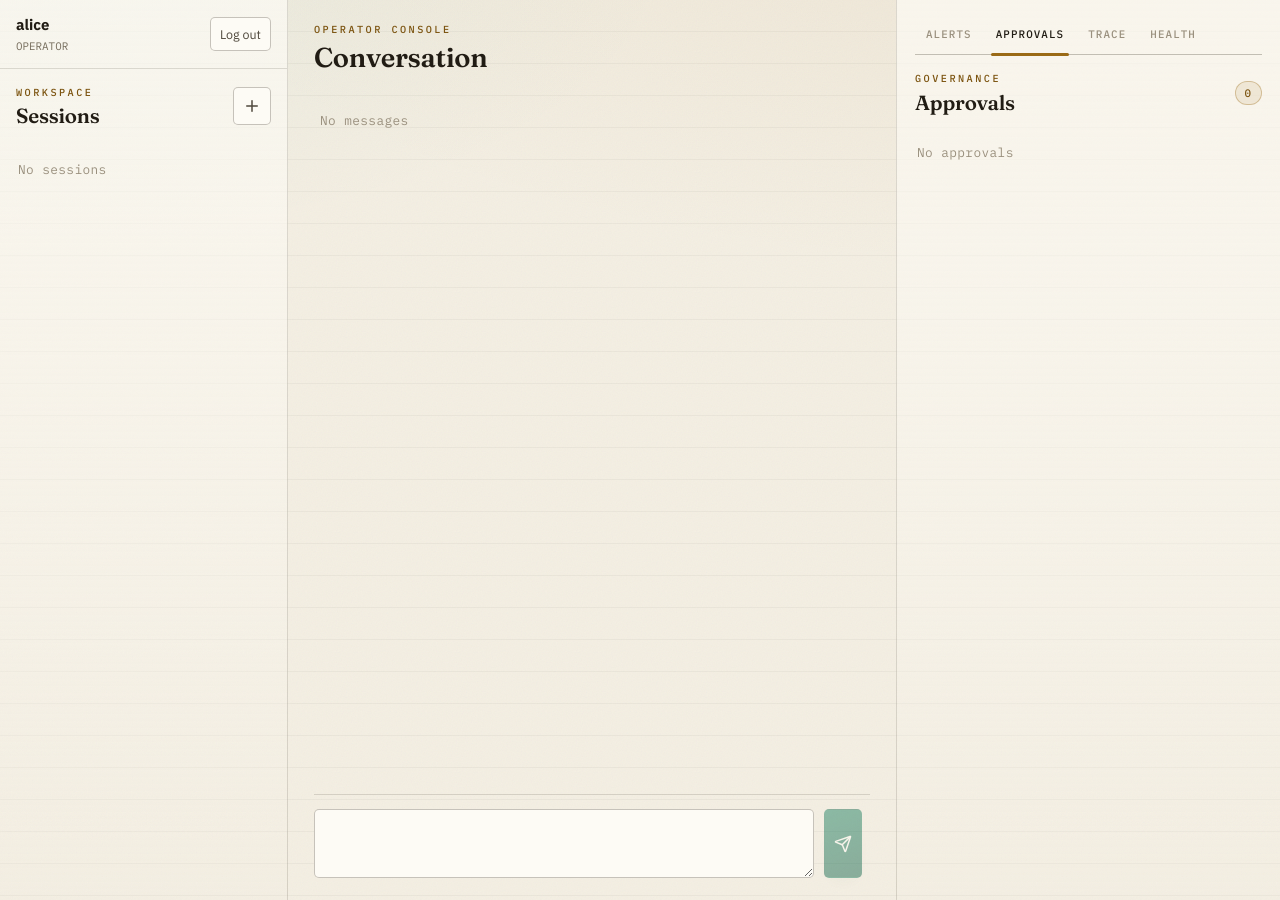
Test: App › renders the operator console panes on an empty backend state
Expected: the heading "Sessions" is shown, x1=16 y1=105 x2=100 y2=128
Expected: the heading "Conversation" is shown, x1=314 y1=42 x2=487 y2=73
Click the tab "Health".
click(1173, 35)  # box x1=1139 y1=18 x2=1207 y2=52
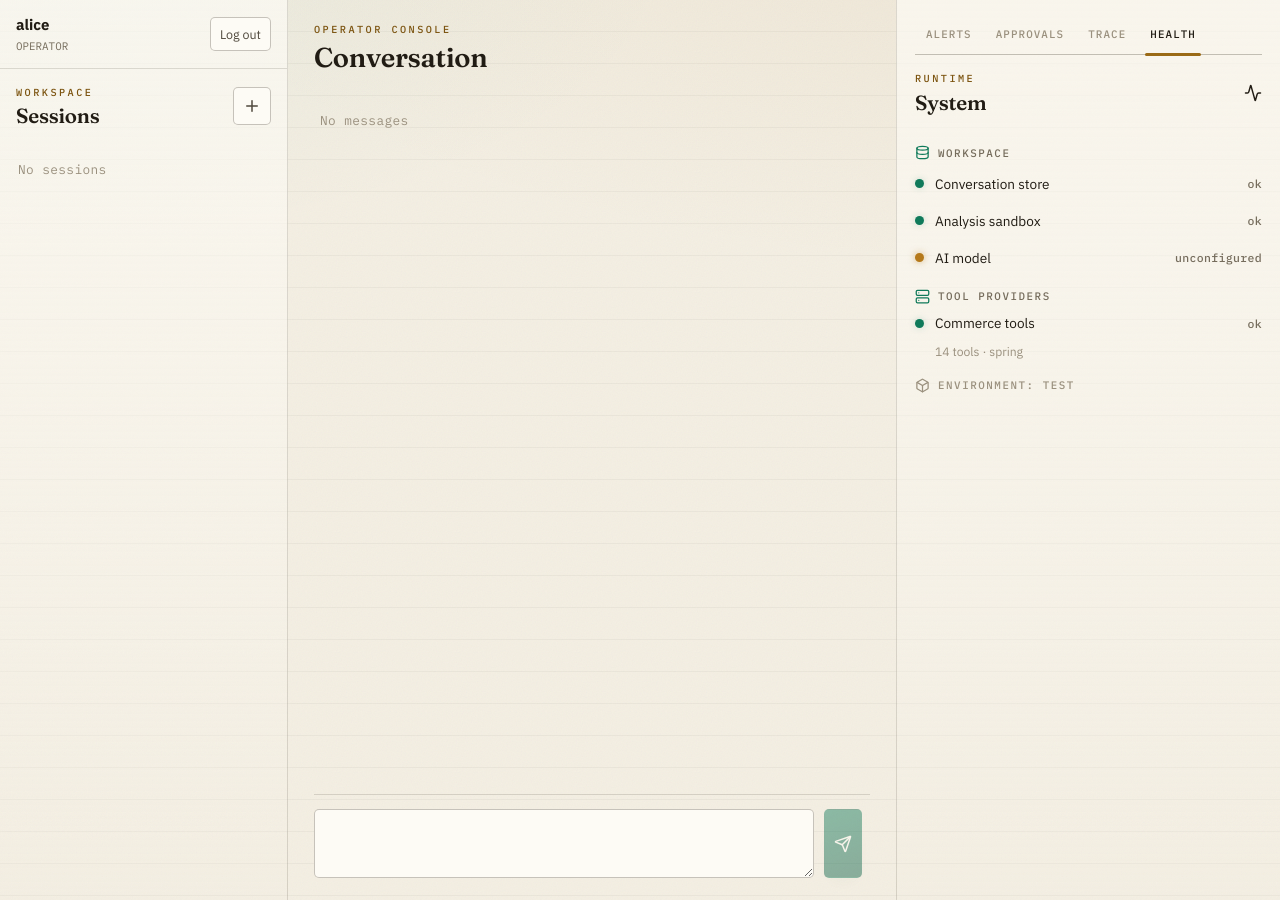
Expected: the heading "System" is shown, x1=915 y1=92 x2=986 y2=115
